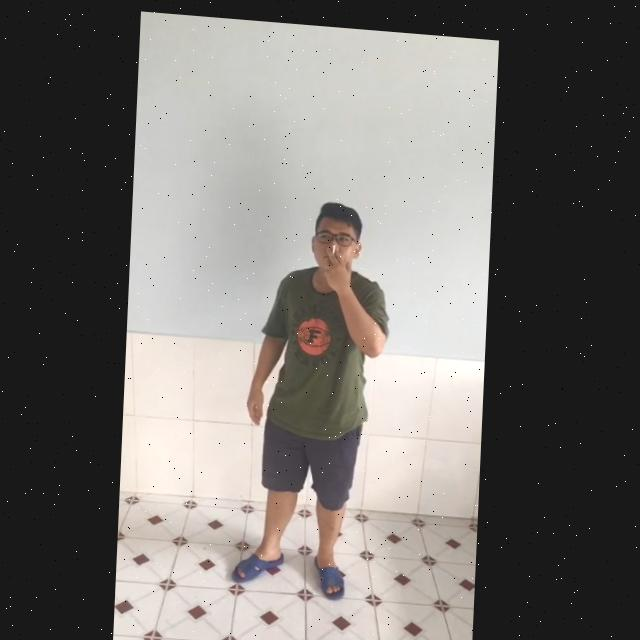cigarette: (334, 238, 339, 248)
